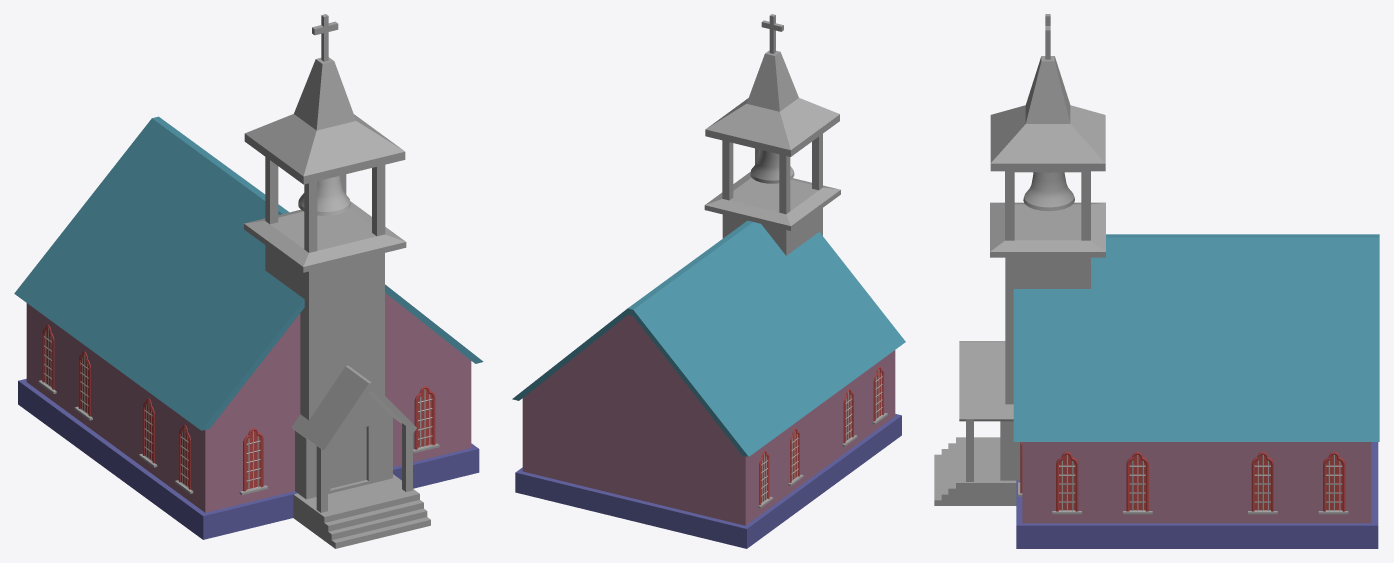
The model's file is Msh_Church.fbx.
The picture shows the model from 3 angles, left to right: view 1: azimuth 30°, elevation 25°; view 2: azimuth 150°, elevation 25°; view 3: azimuth 270°, elevation 25°; orthographic projection. The views are drawn at different scales.
Visible parts, largest first — view 1: Msh_Window; view 2: Msh_Window; view 3: Msh_Window.
Boxes of the visible parts, bbox=[...] form: Msh_Window: bbox=[14, 14, 483, 548]; Msh_Window: bbox=[512, 14, 905, 548]; Msh_Window: bbox=[934, 14, 1379, 548].
Bounding box in the file's own units: 2239 × 3630 × 3131.
